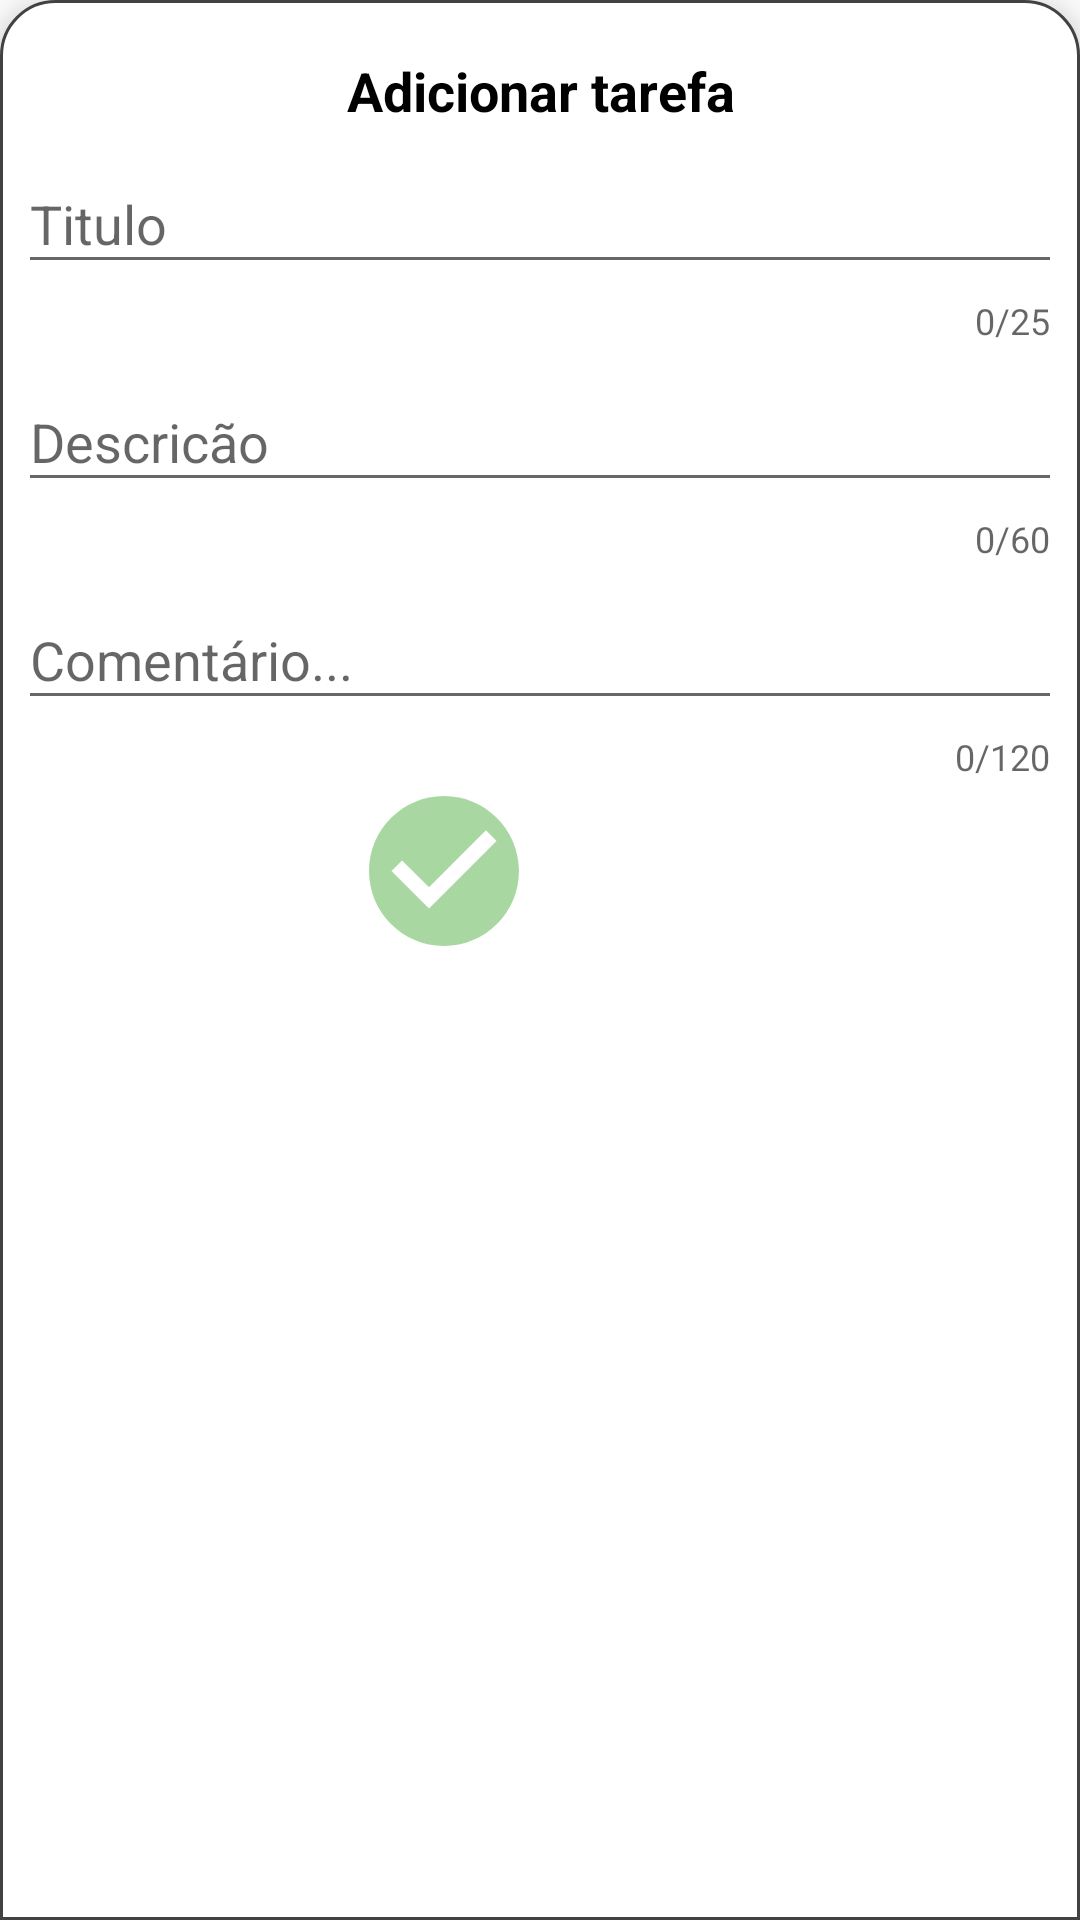

Named icons in this screenshot (1080*1920) and their centers, (x,y):
check circle: (444,871)
